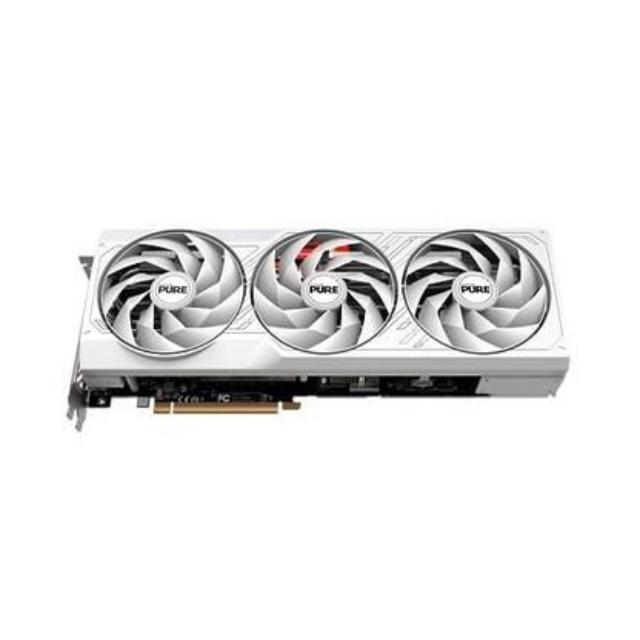GPU: (57, 213, 574, 419)
